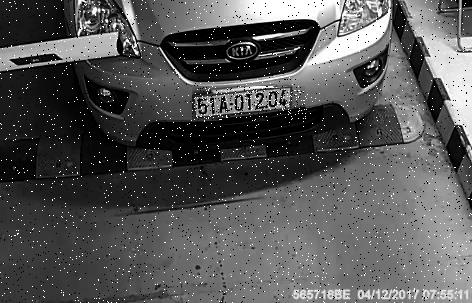License-plate: (194, 88, 308, 122)
